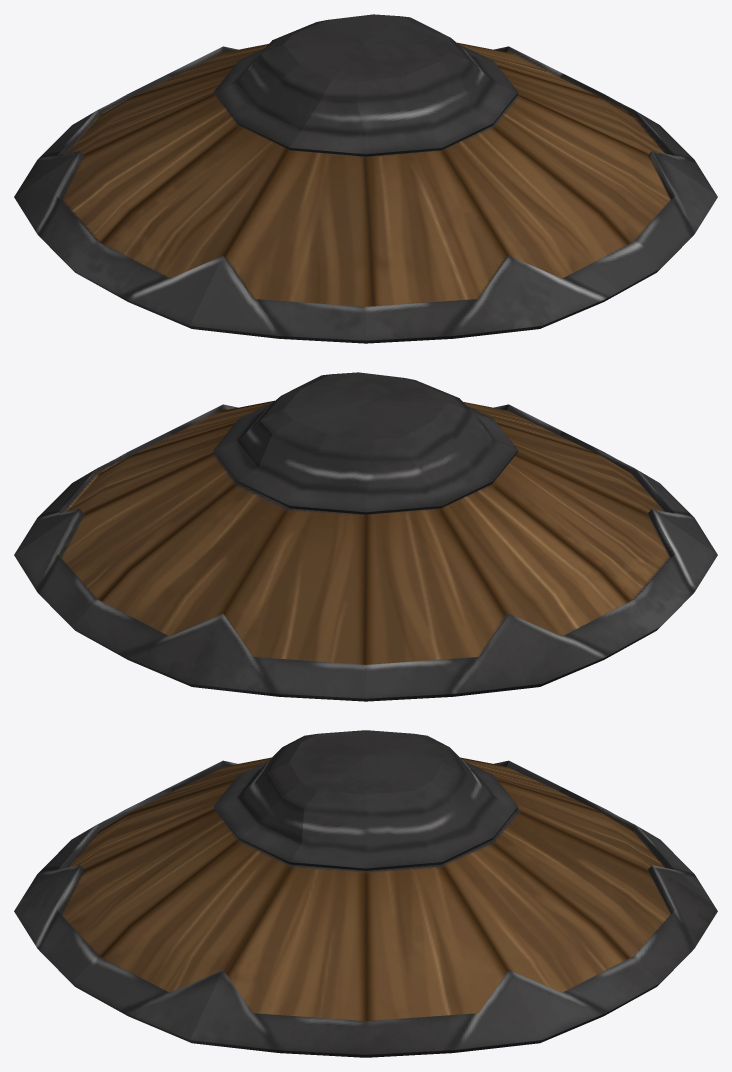
The model's file is SM_shield.fbx.
The picture shows the model from 3 angles, top to bottom: view 1: azimuth 30°, elevation 25°; view 2: azimuth 150°, elevation 25°; view 3: azimuth 270°, elevation 25°; orthographic projection.
Parts seen in each view (by area): view 1: SM_shield; view 2: SM_shield; view 3: SM_shield.
Boxes of the visible parts, x1=… form: SM_shield: x1=14, y1=14, x2=717, y2=343; SM_shield: x1=14, y1=372, x2=717, y2=701; SM_shield: x1=14, y1=730, x2=717, y2=1057.
Bounding box in the file's own units: 2.11 × 0.5475 × 2.18.
